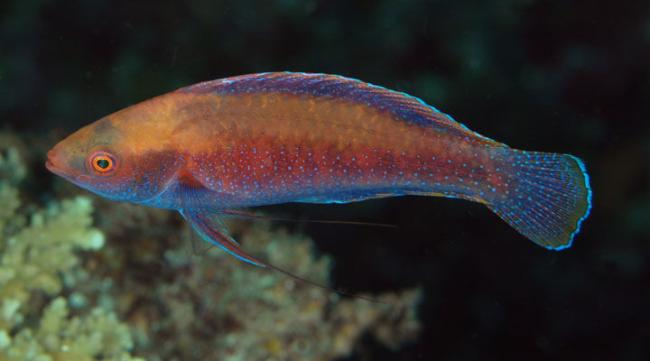fish: (44, 70, 591, 269)
